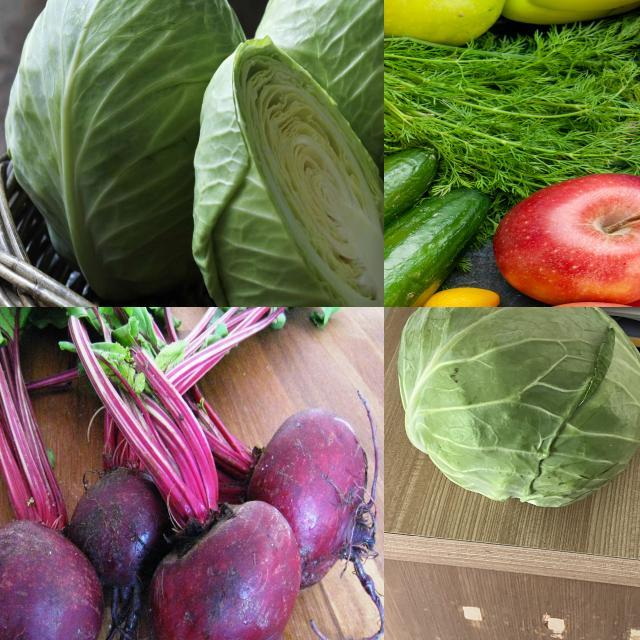beet: (239, 409, 383, 581), (157, 485, 295, 640), (1, 501, 98, 640), (73, 459, 163, 581)
cabbage: (9, 1, 260, 308), (191, 23, 385, 308), (394, 308, 640, 515), (256, 1, 385, 200)
cucumber: (385, 180, 493, 308), (385, 146, 443, 305)
